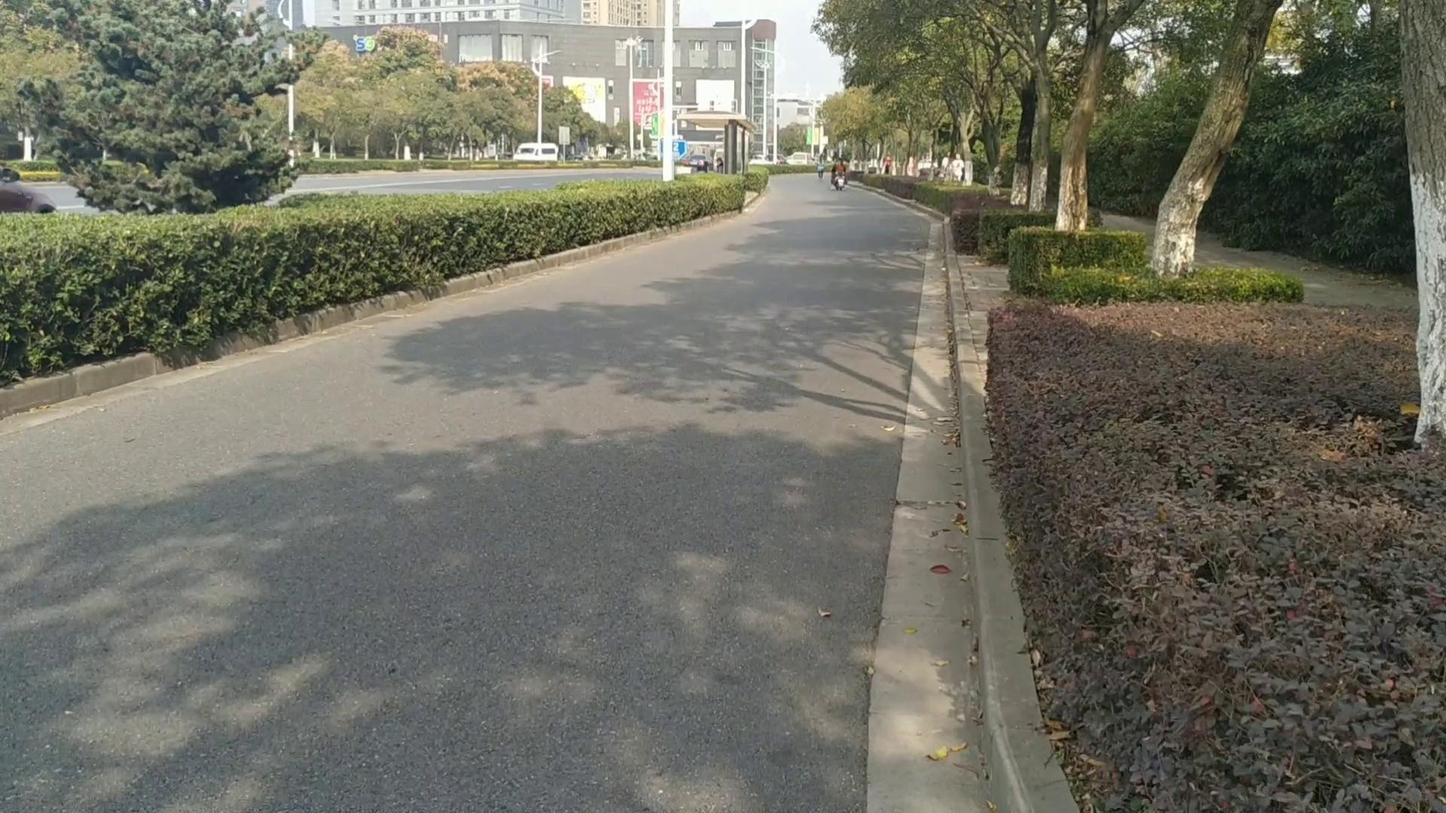car: (515, 141, 559, 163)
